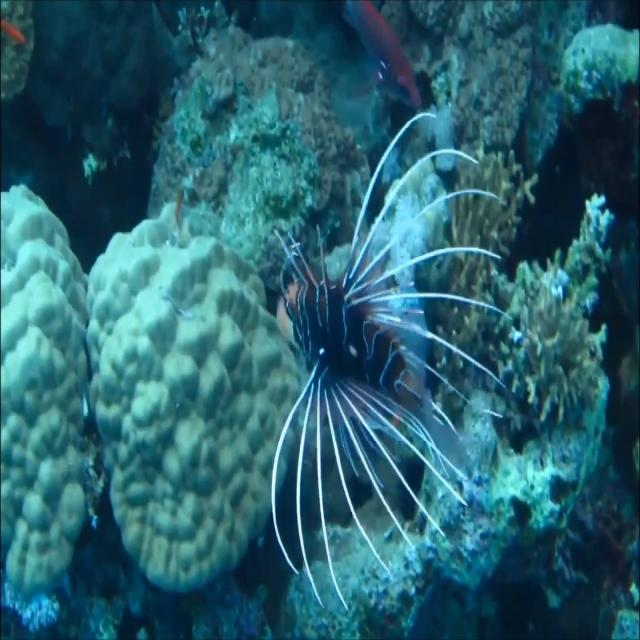Lionfish -Endangered- -Poisonous-: (269, 107, 518, 602)
